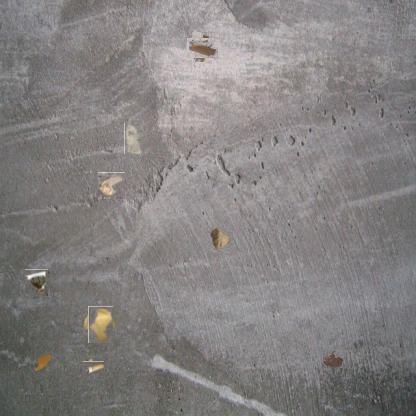dirty: (85, 309, 116, 340), (98, 172, 125, 198), (207, 227, 233, 253), (189, 35, 215, 61), (24, 270, 49, 296), (124, 122, 143, 154), (84, 360, 103, 378)
liquid: (323, 350, 343, 368), (34, 354, 52, 372)
